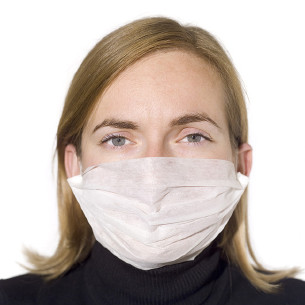face_mask: (70, 69, 245, 268)
